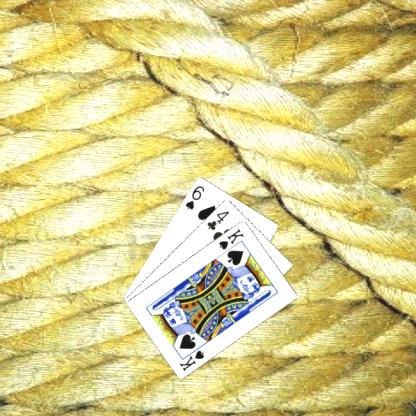4C: (204, 208, 230, 232)
6S: (182, 182, 206, 210)
KS: (176, 342, 206, 372), (216, 225, 245, 251)
